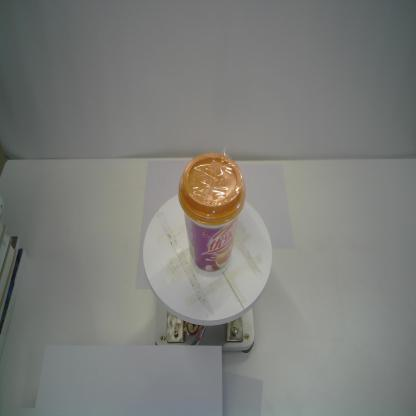Instant Drink: (177, 151, 246, 278)
